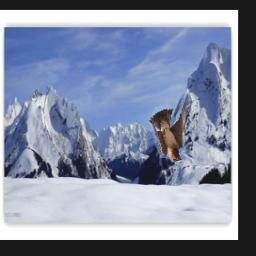Swallow: (150, 95, 186, 162)
